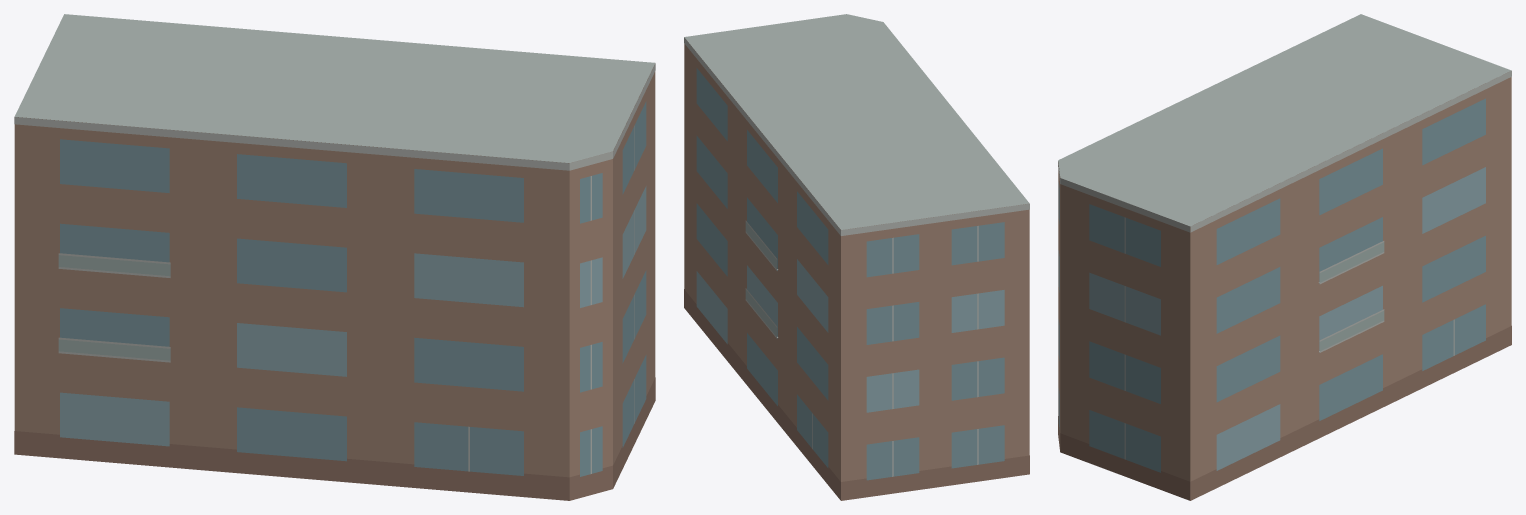
The model's file is survey-upis-32883607.glb.
3 views of the same model, side by side, from view 1: azimuth 30°, elevation 25°; view 2: azimuth 150°, elevation 25°; view 3: azimuth 270°, elevation 25° (orthographic). The views are drawn at different scales.
Parts seen in each view (by area): view 1: survey-upis-32883607.tmp; view 2: survey-upis-32883607.tmp; view 3: survey-upis-32883607.tmp.
Boxes of the visible parts, box(x1,y1,x2,y2) form: survey-upis-32883607.tmp: box(14, 14, 655, 500); survey-upis-32883607.tmp: box(684, 14, 1029, 500); survey-upis-32883607.tmp: box(1058, 14, 1511, 500).
Bounding box in the file's own units: 18.05 × 10.86 × 16.28.
